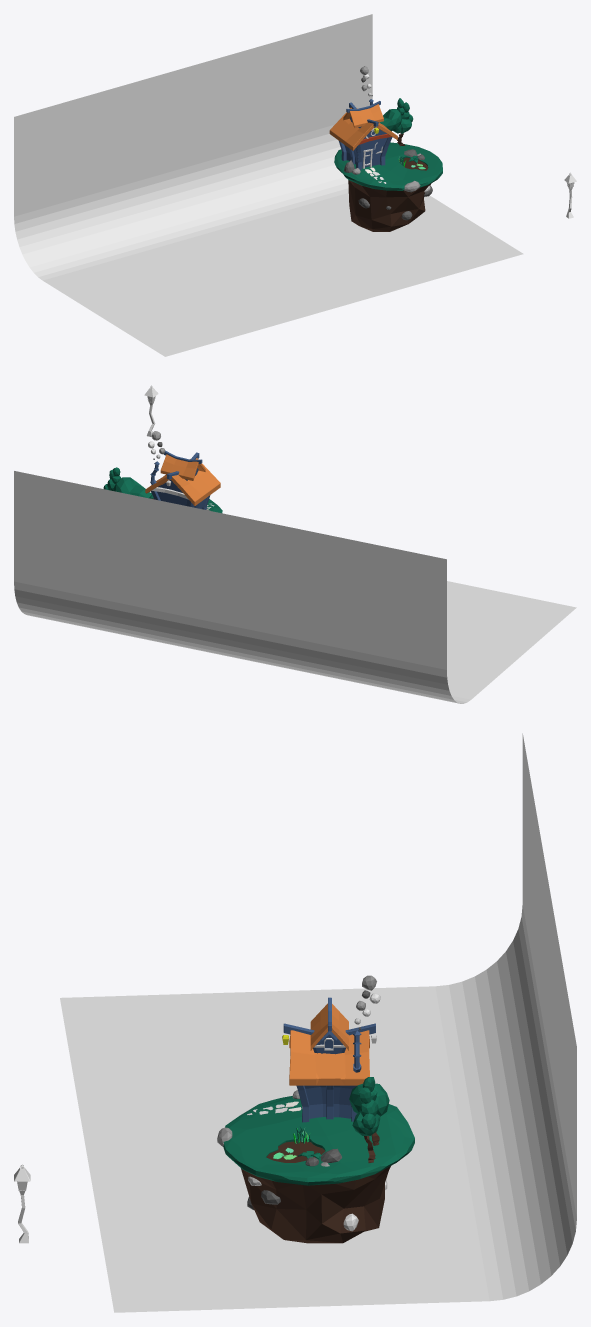
File: Cute House-2.fbx
3 renders of one model, top to bottom at view 1: azimuth 30°, elevation 25°; view 2: azimuth 150°, elevation 25°; view 3: azimuth 270°, elevation 25°, orthographic. The views are drawn at different scales.
Visible parts, largest first — view 1: Plane.032, Cylinder.006, Cylinder.005, Cube, Cube.001, Cube.003; view 2: Plane.032, Cube.001, Cube.003, Cube, Icosphere.021; view 3: Plane.032, Cylinder.005, Cylinder.006, Cube.001, Cube, Cube.003.
Part boxes in pixels (bbox=[...]): Plane.032: bbox=[14, 14, 523, 356]; Cylinder.006: bbox=[348, 157, 431, 231]; Cylinder.005: bbox=[334, 142, 442, 190]; Cube: bbox=[339, 127, 392, 169]; Cube.001: bbox=[329, 107, 397, 150]; Cube.003: bbox=[343, 104, 383, 128]; Plane.032: bbox=[14, 471, 576, 703]; Cube.001: bbox=[145, 458, 220, 505]; Cube.003: bbox=[160, 454, 205, 480]; Cube: bbox=[151, 480, 210, 509]; Icosphere.021: bbox=[113, 477, 151, 498]; Plane.032: bbox=[60, 733, 576, 1312]; Cylinder.005: bbox=[223, 1096, 414, 1185]; Cylinder.006: bbox=[241, 1141, 390, 1243]; Cube.001: bbox=[289, 1030, 369, 1085]; Cube: bbox=[296, 1085, 356, 1122]; Cube.003: bbox=[310, 1003, 348, 1050].
Size of the model in its own units: 19051 by 6761 by 12968.
